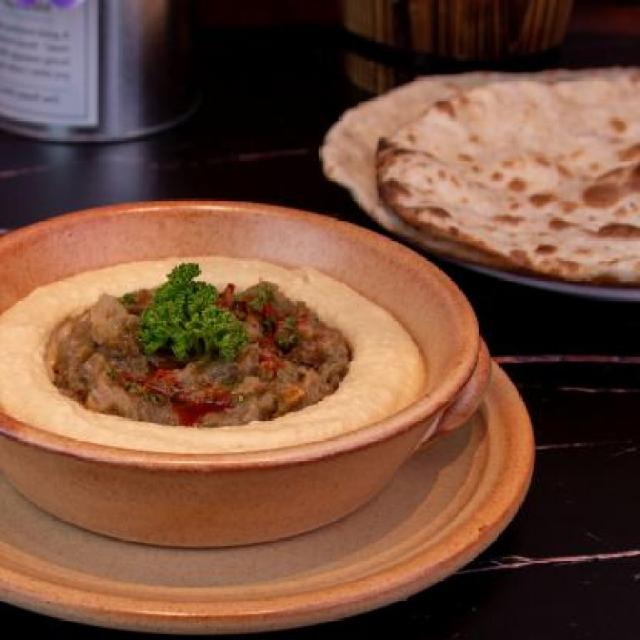eggplant: (48, 276, 348, 426)
hummus: (0, 244, 433, 490)
